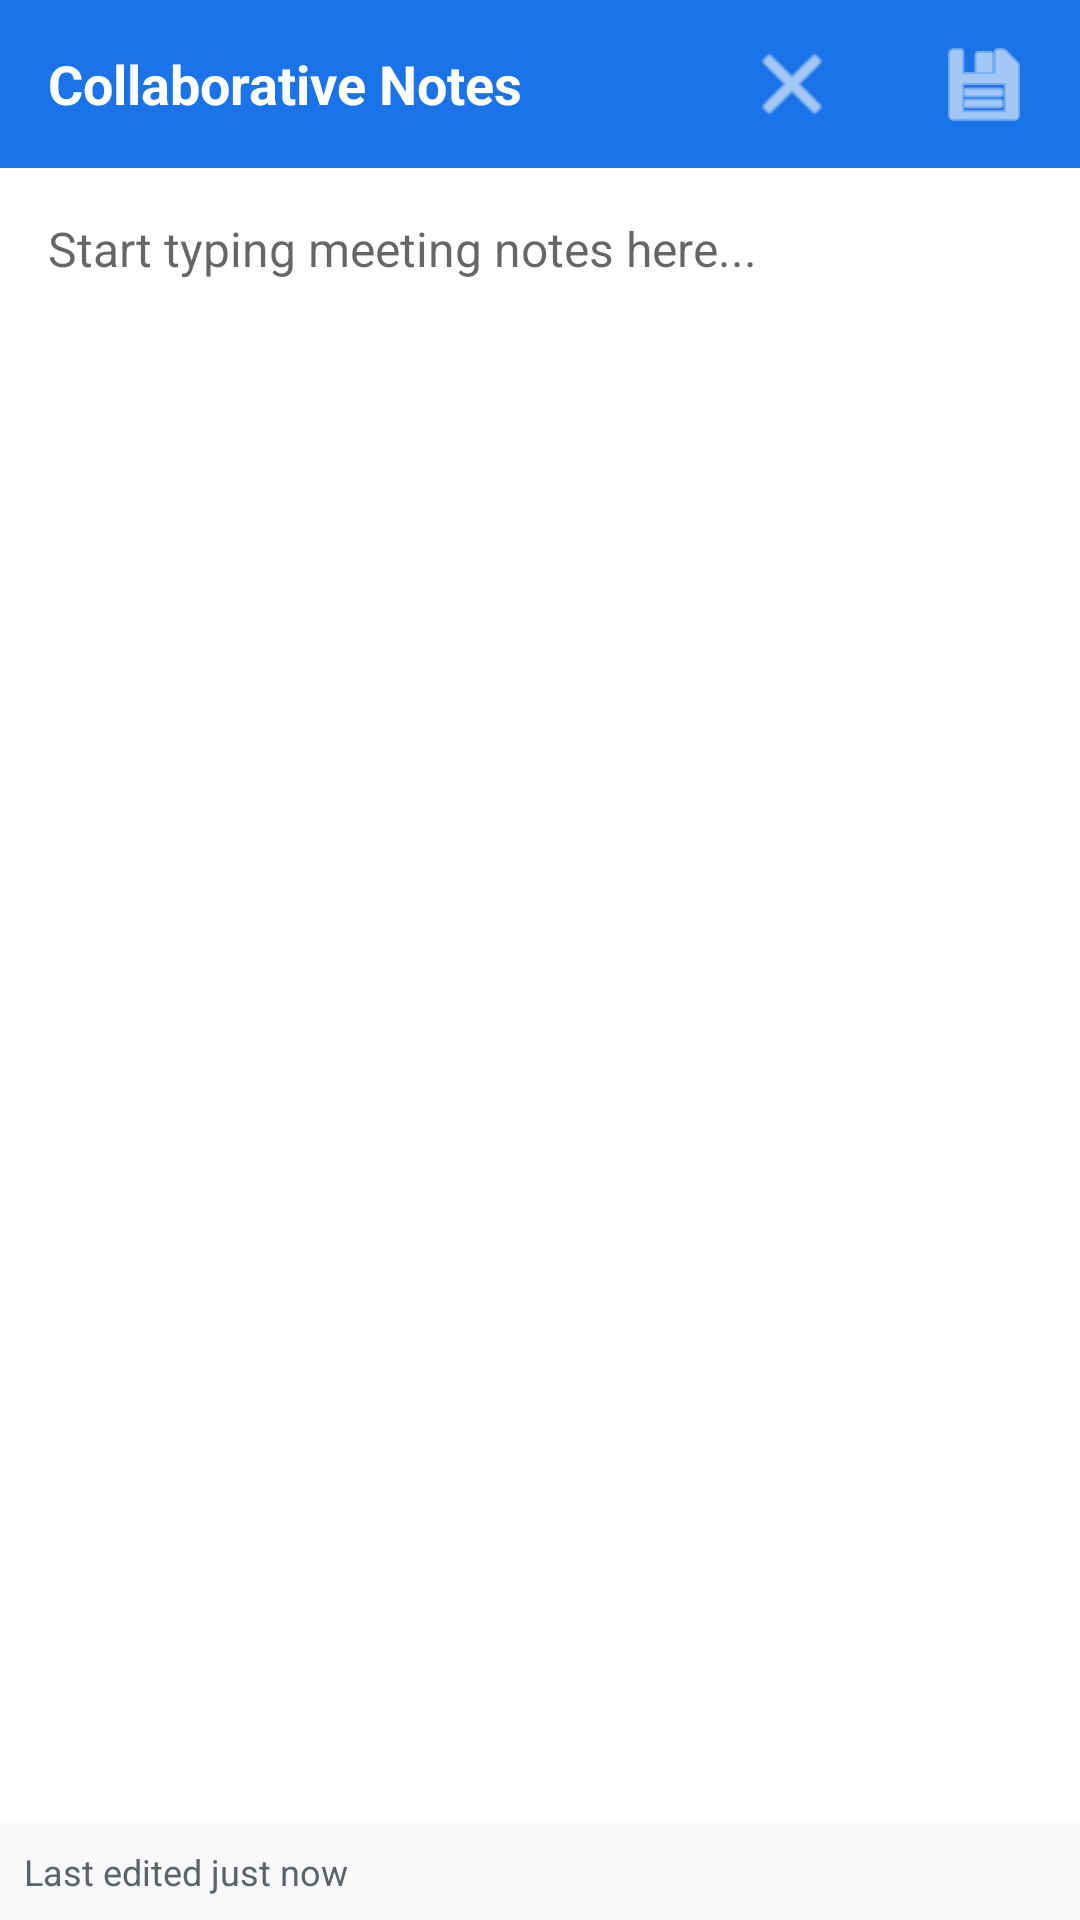

Icon click points for this 1080 x 1920 phone screenshot, format (x=x, y=y):
close clear cancel: (x=792, y=84)
save: (x=984, y=84)
